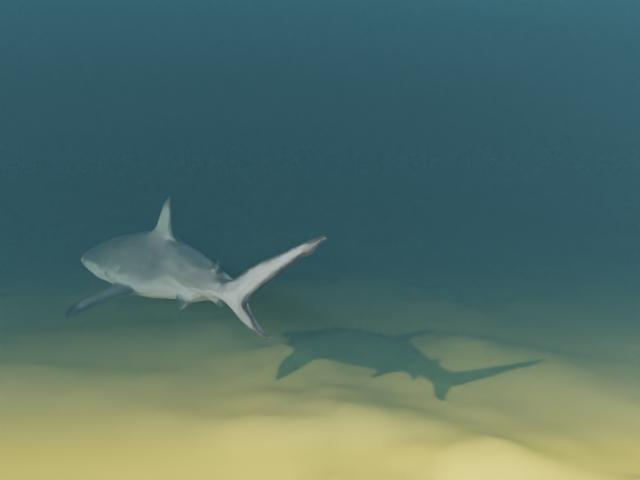Carribean Shark.001: (64, 196, 326, 339)
